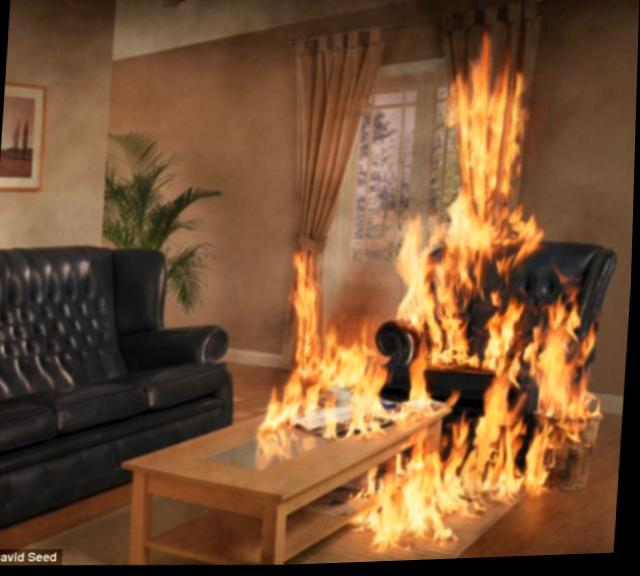fire: (272, 29, 611, 554)
